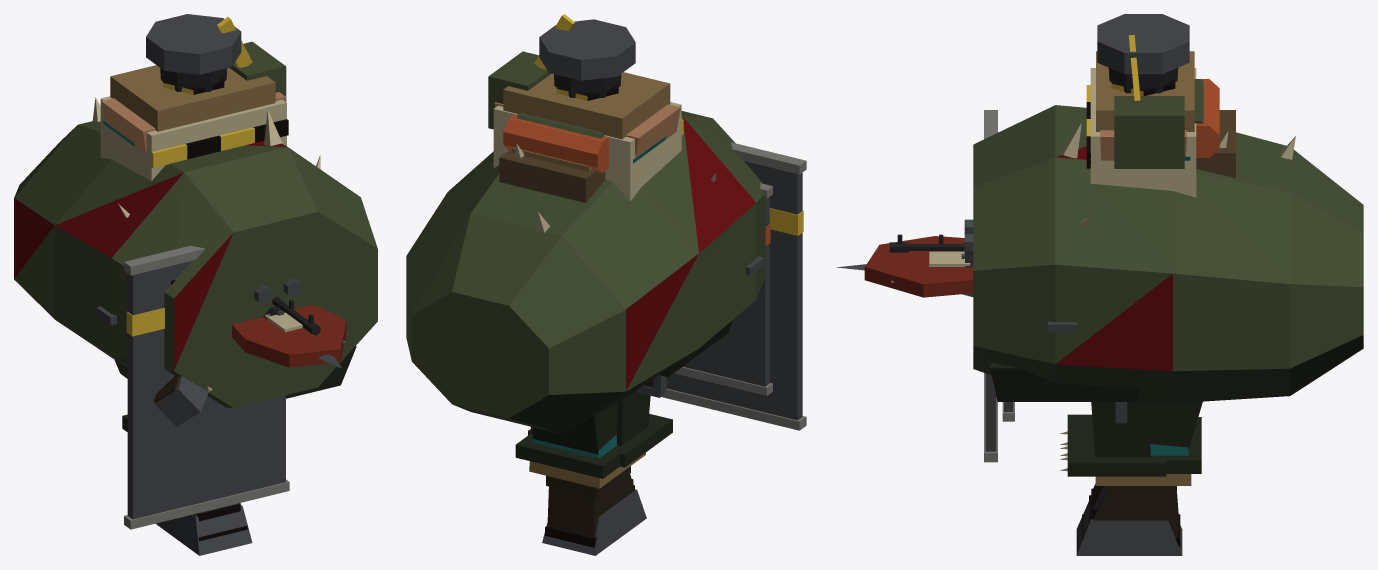
File: parts_library_q.glb
3 views of the same model, side by side, from view 1: azimuth 30°, elevation 25°; view 2: azimuth 150°, elevation 25°; view 3: azimuth 270°, elevation 25° (orthographic). The views are drawn at different scales.
Visible parts, largest first — view 1: body-38fac3f9, arm-b059ad96, torso-f99e1f2d, base-89b854cc, _root-bcfacdac, leg-b8a91c42, torso-bbfc64b8, head-fe5a6438, gun-88d96ac0, _root-5db43d21; view 2: body-38fac3f9, arm-b059ad96, torso-f99e1f2d, base-89b854cc, torso-8b1e6614, arm-b87c9c93, leg-e9557d2e, leg-73cf58a9, leg-d7a42d89, leg-b8a91c42, leg-622c8a9f, torso-bbfc64b8 (+4 smaller); view 3: body-38fac3f9, base-89b854cc, torso-f99e1f2d, leg-c1281976, _root-bcfacdac, leg-b8a91c42, head-fe5a6438, leg-622c8a9f, leg-e9557d2e, torso-8b1e6614, arm-b059ad96, leg-7511d449 (+2 smaller).
Part boxes in pixels (<box>): body-38fac3f9: <box>14,97,377,407</box>; arm-b059ad96: <box>124,245,289,529</box>; torso-f99e1f2d: <box>100,65,288,181</box>; base-89b854cc: <box>96,14,286,325</box>; _root-bcfacdac: <box>232,304,346,367</box>; leg-b8a91c42: <box>156,505,252,555</box>; torso-bbfc64b8: <box>101,92,285,154</box>; head-fe5a6438: <box>114,155,356,398</box>; gun-88d96ac0: <box>254,277,301,304</box>; _root-5db43d21: <box>278,302,320,335</box>; body-38fac3f9: <box>406,111,764,433</box>; arm-b059ad96: <box>661,142,806,430</box>; torso-f99e1f2d: <box>493,72,683,201</box>; base-89b854cc: <box>488,14,764,275</box>; torso-8b1e6614: <box>499,114,608,202</box>; arm-b87c9c93: <box>674,183,772,395</box>; leg-e9557d2e: <box>545,466,642,547</box>; leg-73cf58a9: <box>535,402,650,478</box>; leg-d7a42d89: <box>616,392,672,467</box>; leg-b8a91c42: <box>542,489,646,555</box>; leg-622c8a9f: <box>515,426,589,473</box>; torso-bbfc64b8: <box>494,102,680,157</box>; body-38fac3f9: <box>973,105,1363,403</box>; base-89b854cc: <box>1048,14,1189,332</box>; torso-f99e1f2d: <box>1086,51,1196,197</box>; leg-c1281976: <box>1059,401,1166,476</box>; _root-bcfacdac: <box>864,236,973,297</box>; leg-b8a91c42: <box>1076,501,1182,555</box>; head-fe5a6438: <box>990,215,1139,401</box>; leg-622c8a9f: <box>1150,401,1202,473</box>; leg-e9557d2e: <box>1082,486,1180,547</box>; torso-8b1e6614: <box>1196,79,1235,178</box>; arm-b059ad96: <box>962,110,997,462</box>; leg-7511d449: <box>1095,444,1191,485</box>.
Bounding box in the file's own units: 1.1 × 1.97 × 1.8.
